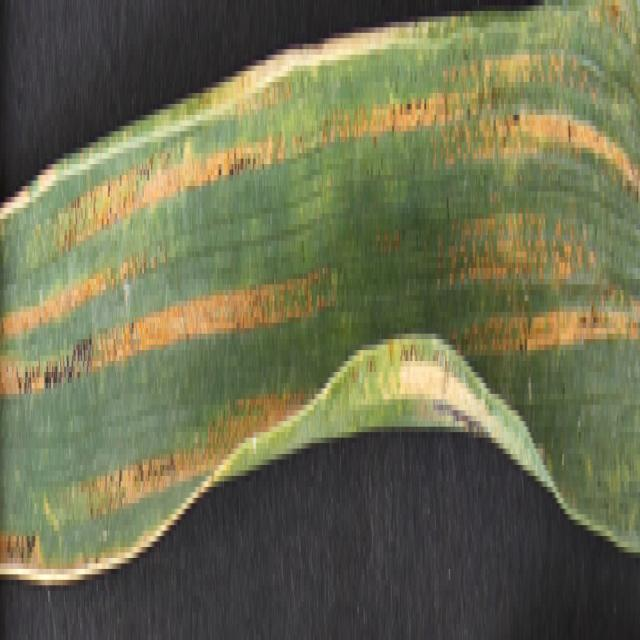leaf rust: (1, 71, 322, 580), (329, 39, 639, 378)
